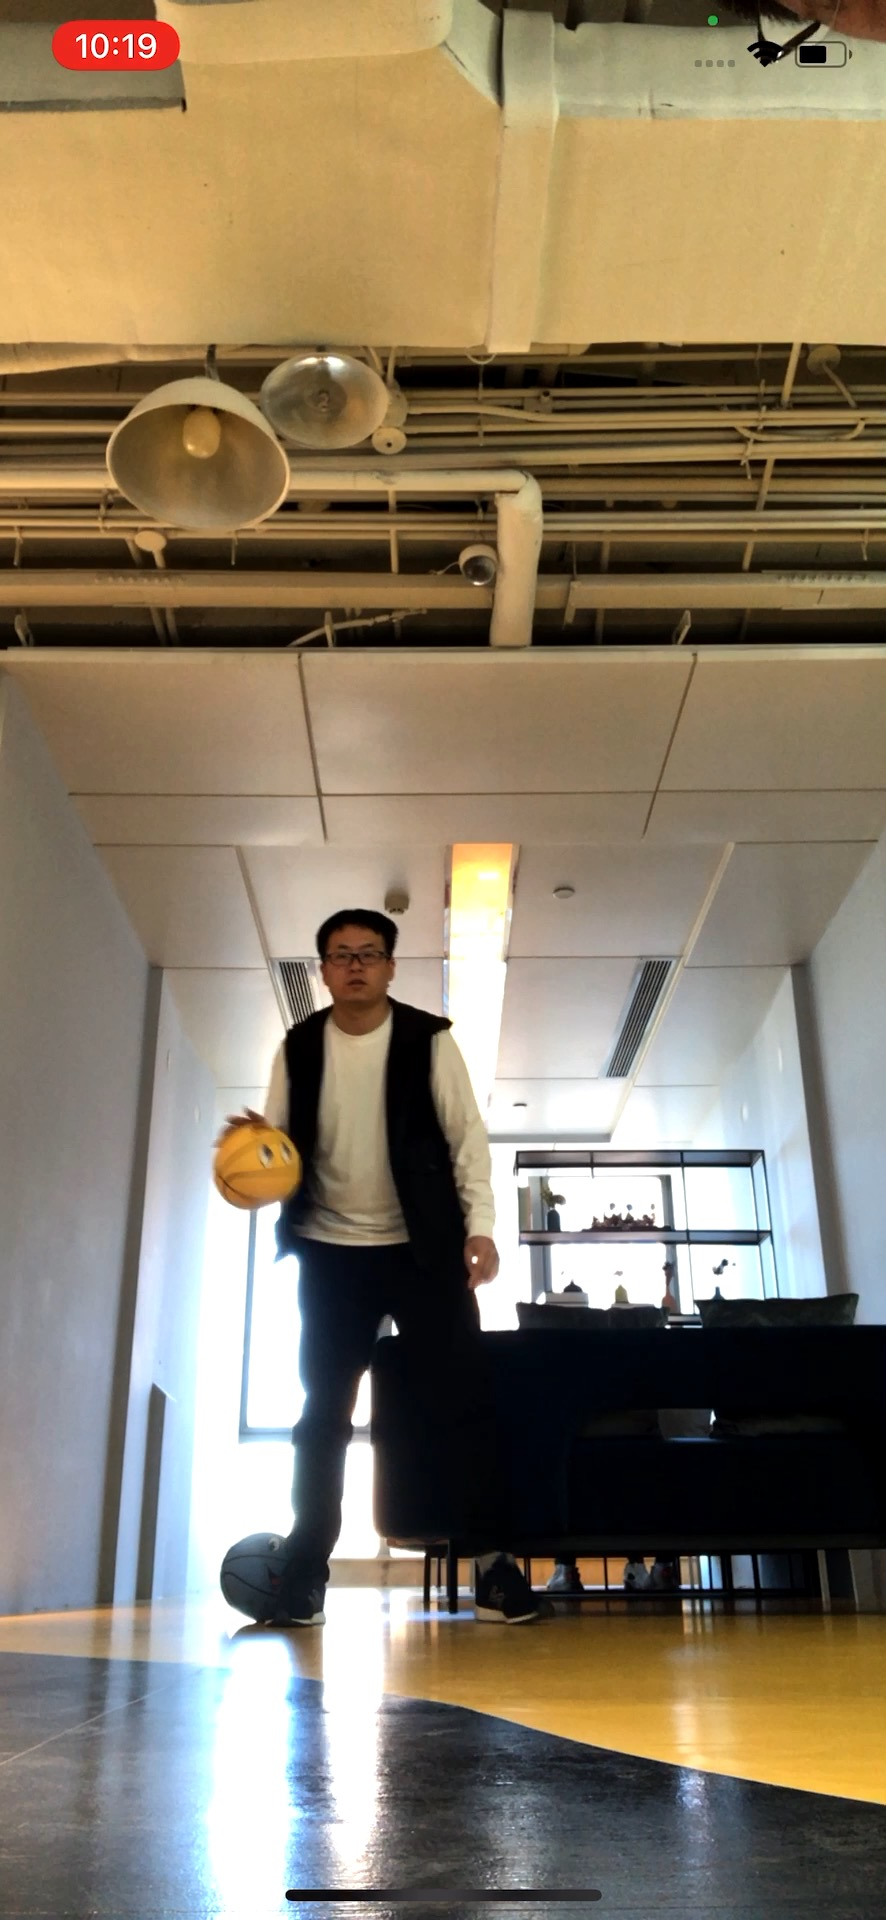ball: (212, 1120, 300, 1210), (221, 1536, 296, 1625)
